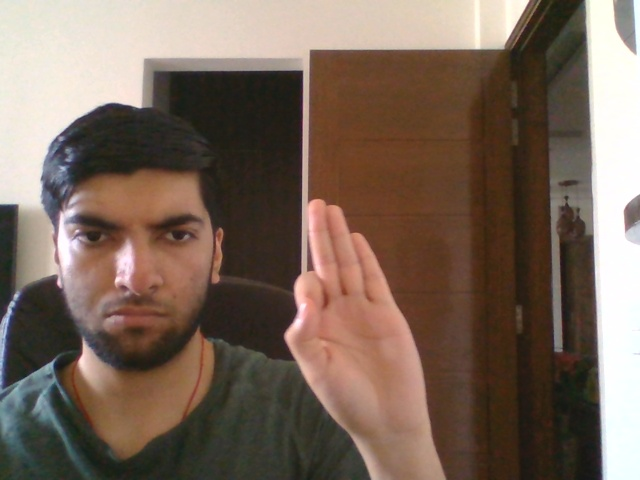LetterF: (283, 197, 435, 444)
